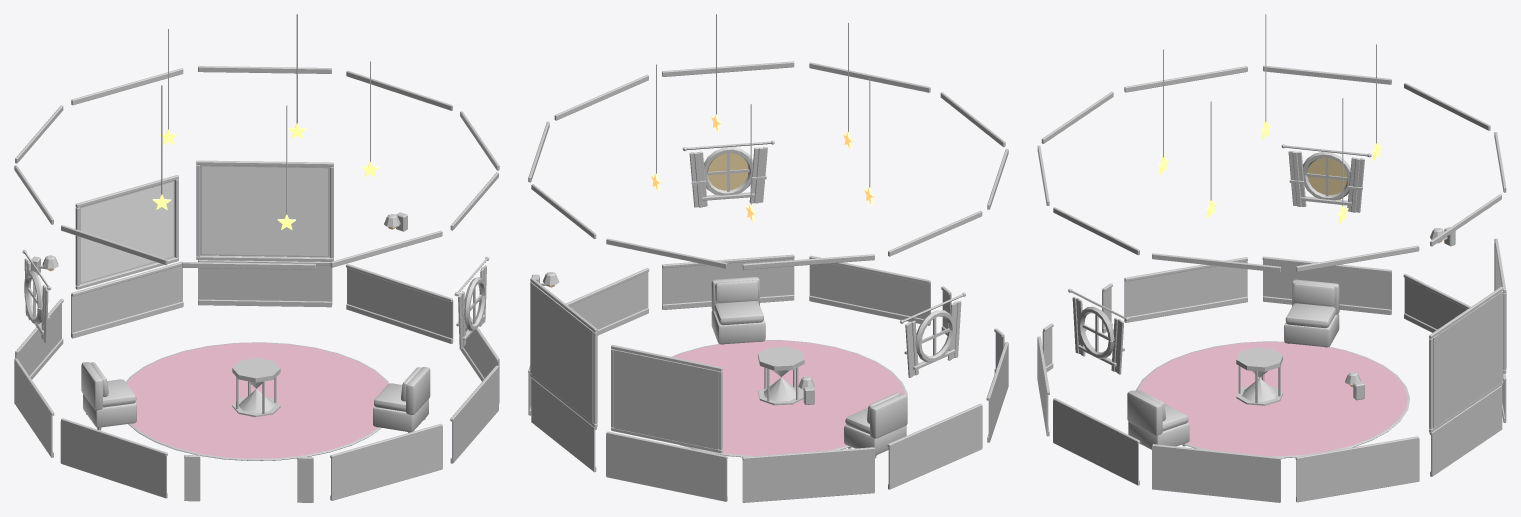
The model's file is zon_room_calendar.glb.
3 renders of one model, left to right at view 1: azimuth 30°, elevation 25°; view 2: azimuth 150°, elevation 25°; view 3: azimuth 270°, elevation 25°, orthographic.
Visible parts, largest first — view 1: SM_zon_room_calendar_kit_interior_x0_zm1, SM_zon_room_calendar_room_rug_x0_zm1, SCREEN_fur_screen_calendar_dates__0, SCREEN_fur_screen_calendar_love__0, ANIM_fur_hourglass_calendar_glass__0; view 2: SM_zon_room_calendar_kit_interior_x0_zm1, SM_zon_room_calendar_room_rug_x0_zm1, ANIM_fur_hourglass_calendar_glass__0, SM_zon_room_calendar_glow_vc_x0_zm1; view 3: SM_zon_room_calendar_kit_interior_x0_zm1, SM_zon_room_calendar_room_rug_x0_zm1, ANIM_fur_hourglass_calendar_glass__0, SM_zon_room_calendar_glow_vc_x0_zm1.
Boxes of the visible parts, bbox=[...] form: SM_zon_room_calendar_kit_interior_x0_zm1: bbox=[14, 14, 499, 502]; SM_zon_room_calendar_room_rug_x0_zm1: bbox=[127, 343, 387, 458]; SCREEN_fur_screen_calendar_dates__0: bbox=[202, 166, 327, 256]; SCREEN_fur_screen_calendar_love__0: bbox=[81, 182, 173, 282]; ANIM_fur_hourglass_calendar_glass__0: bbox=[232, 358, 280, 417]; SM_zon_room_calendar_kit_interior_x0_zm1: bbox=[528, 14, 1008, 502]; SM_zon_room_calendar_room_rug_x0_zm1: bbox=[673, 340, 904, 455]; ANIM_fur_hourglass_calendar_glass__0: bbox=[758, 347, 804, 405]; SM_zon_room_calendar_glow_vc_x0_zm1: bbox=[546, 153, 803, 390]; SM_zon_room_calendar_kit_interior_x0_zm1: bbox=[1037, 14, 1506, 502]; SM_zon_room_calendar_room_rug_x0_zm1: bbox=[1138, 341, 1407, 456]; ANIM_fur_hourglass_calendar_glass__0: bbox=[1236, 347, 1282, 405]; SM_zon_room_calendar_glow_vc_x0_zm1: bbox=[1307, 158, 1442, 387].
Bounding box in the file's own units: 9.99 × 7.83 × 9.78.
